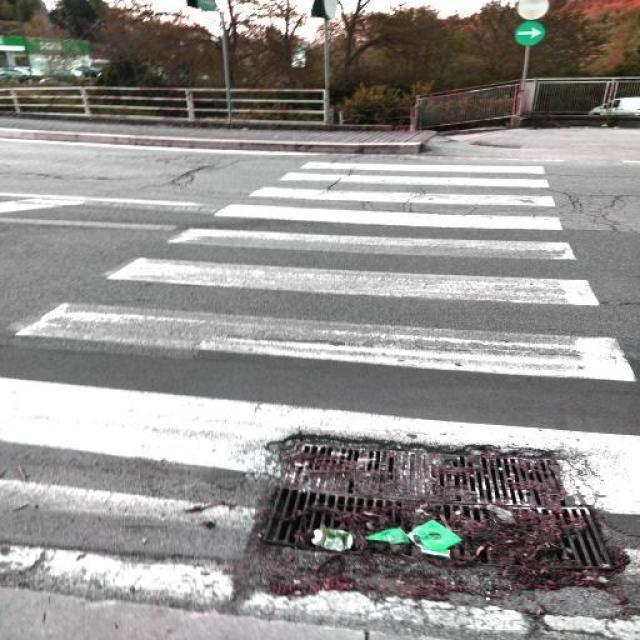crosswalk: (0, 157, 640, 516)
